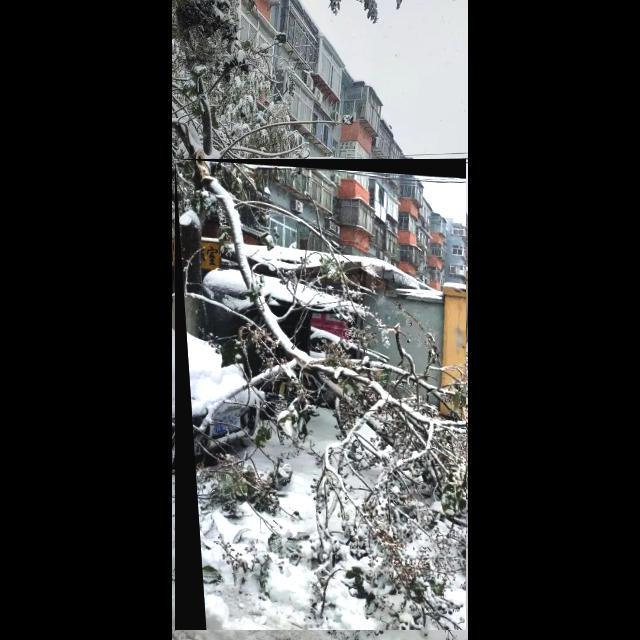fallen_tree: (175, 159, 467, 631)
